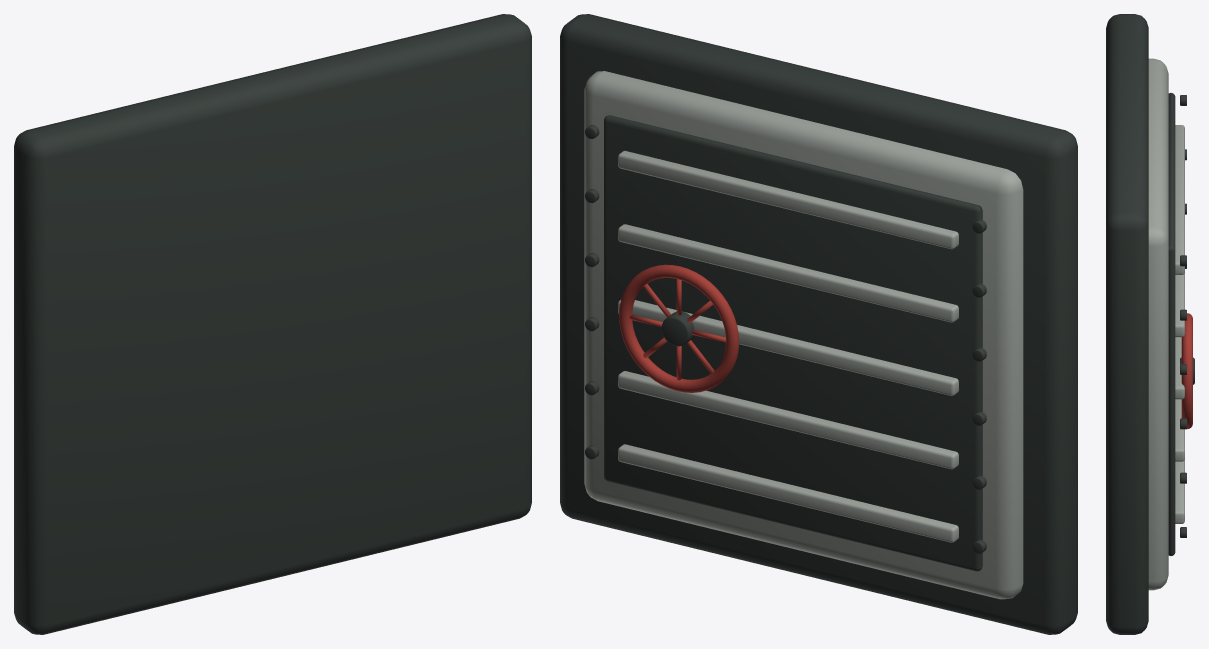
Rendered from blast_door_v2.glb.
The picture shows the model from 3 angles, left to right: view 1: azimuth 30°, elevation 25°; view 2: azimuth 150°, elevation 25°; view 3: azimuth 270°, elevation 25°; orthographic projection. The views are drawn at different scales.
Parts seen in each view (by area): view 1: BlastDoor_Frame; view 2: BlastDoor_Inset, BlastDoor_Frame, BlastDoor_Door, DoorBrace_2.2, DoorBrace_2.75, DoorBrace_0.55, DoorBrace_1.1, DoorBrace_1.65, DoorWheel_Rim, DoorWheel_Hub; view 3: BlastDoor_Frame, BlastDoor_Door, BlastDoor_Inset, DoorBrace_2.75, DoorWheel_Rim, DoorBrace_0.55, DoorBrace_2.2, DoorBrace_1.1, DoorBrace_1.65.
Boxes of the visible parts, x1,y1,x2,y2 form: BlastDoor_Frame: [14, 14, 531, 634]; BlastDoor_Inset: [604, 115, 982, 571]; BlastDoor_Frame: [560, 14, 1077, 634]; BlastDoor_Door: [584, 71, 1023, 599]; DoorBrace_2.2: [618, 224, 958, 322]; DoorBrace_2.75: [618, 150, 958, 249]; DoorBrace_0.55: [618, 444, 958, 542]; DoorBrace_1.1: [618, 371, 958, 469]; DoorBrace_1.65: [618, 300, 958, 395]; DoorWheel_Rim: [619, 264, 739, 392]; DoorWheel_Hub: [661, 311, 694, 346]; BlastDoor_Frame: [1106, 14, 1148, 634]; BlastDoor_Door: [1148, 58, 1168, 590]; BlastDoor_Inset: [1168, 93, 1175, 555]; DoorBrace_2.75: [1175, 125, 1184, 274]; DoorWheel_Rim: [1181, 313, 1192, 429]; DoorBrace_0.55: [1175, 459, 1184, 523]; DoorBrace_2.2: [1175, 272, 1184, 337]; DoorBrace_1.1: [1175, 399, 1184, 461]; DoorBrace_1.65: [1175, 337, 1184, 399].
Bounding box in the file's own units: 3.96 × 3.72 × 0.71.
